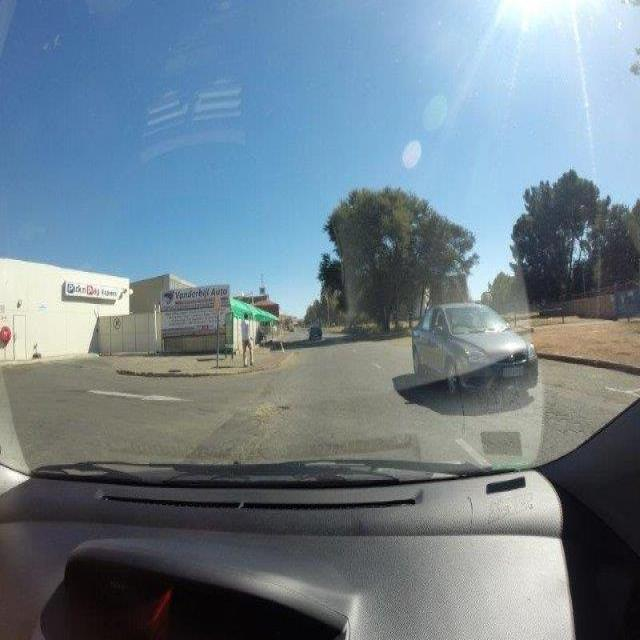jalan retak: (539, 402, 593, 441)
lubang: (252, 402, 292, 418)
